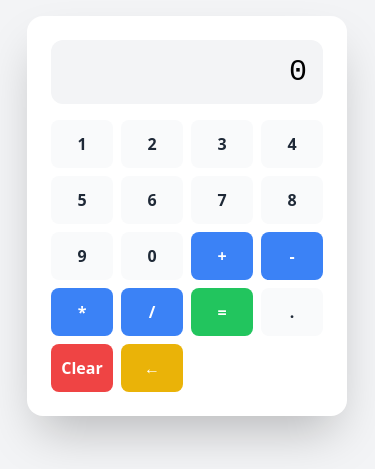
Test case: updates display when number buttons are clicked
Click the button "1": click(82, 144) [51,120,113,168]
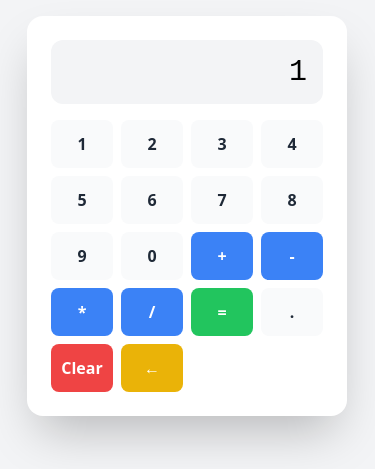
Result: the text with test id "calculator-display" reads "1" at [289,55,307,89]
